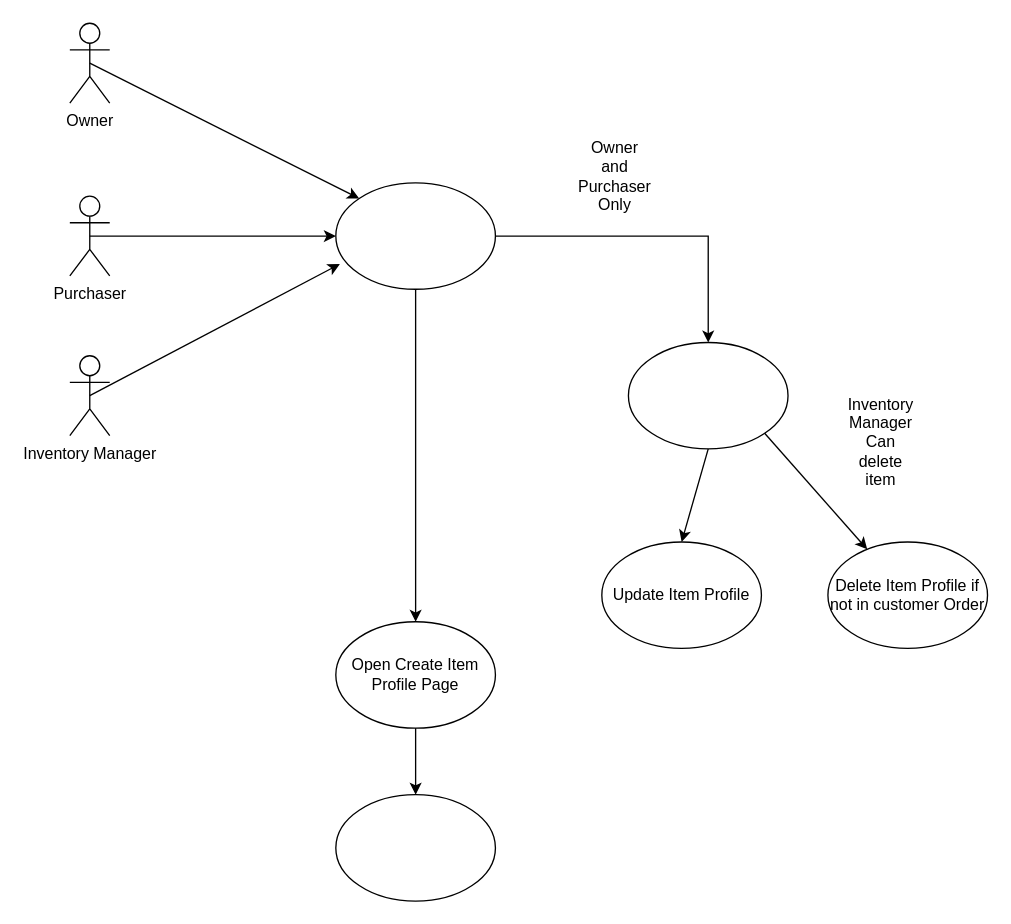
The diagram is 1011 pixels wide and 924 high, and some of its shapes have lost their labels. The centre of each missing label's shape, as x and y in pixels:
Fill In all required details: the point at 414,847
Log-in To page: the point at 414,235
Search For Item: the point at 707,395
